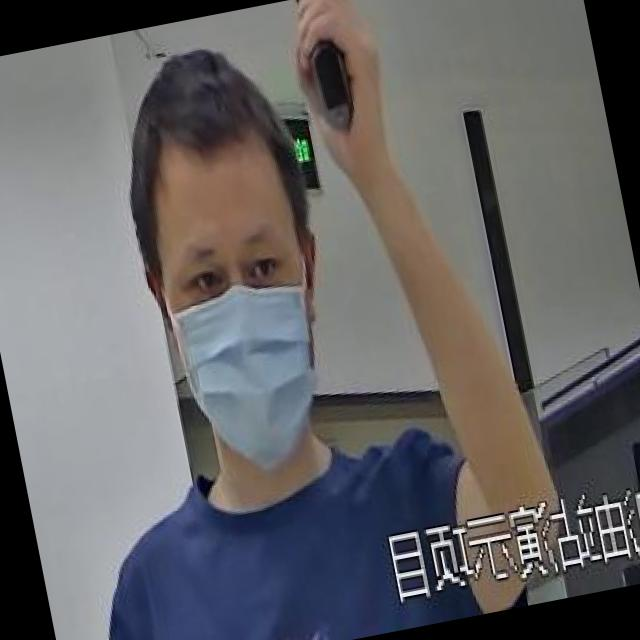Guns: (239, 0, 414, 194)
